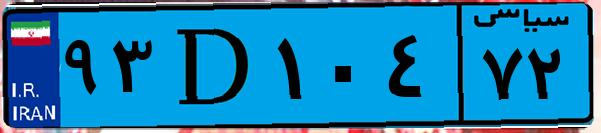0: (330, 28, 385, 110)
1: (270, 28, 330, 110)
2: (525, 38, 570, 115)
3: (110, 28, 158, 98)
4: (385, 28, 445, 110)
7: (475, 38, 525, 113)
9: (57, 26, 110, 100)
D: (158, 12, 270, 120)
